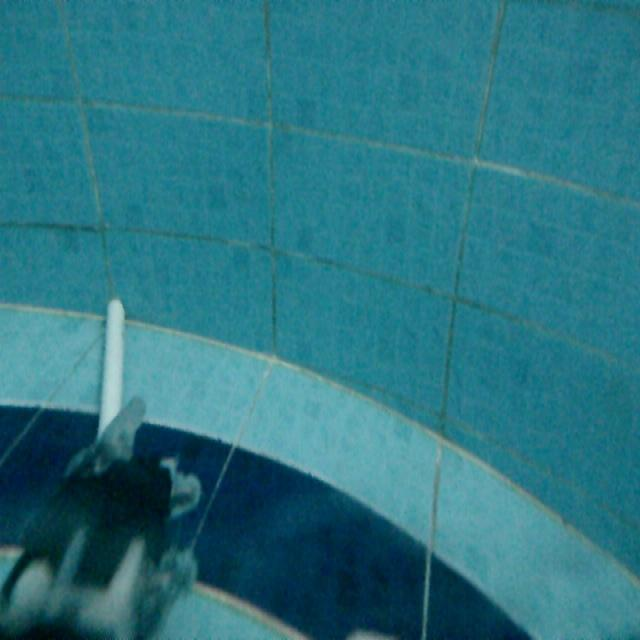Cube: (93, 292, 128, 443)
